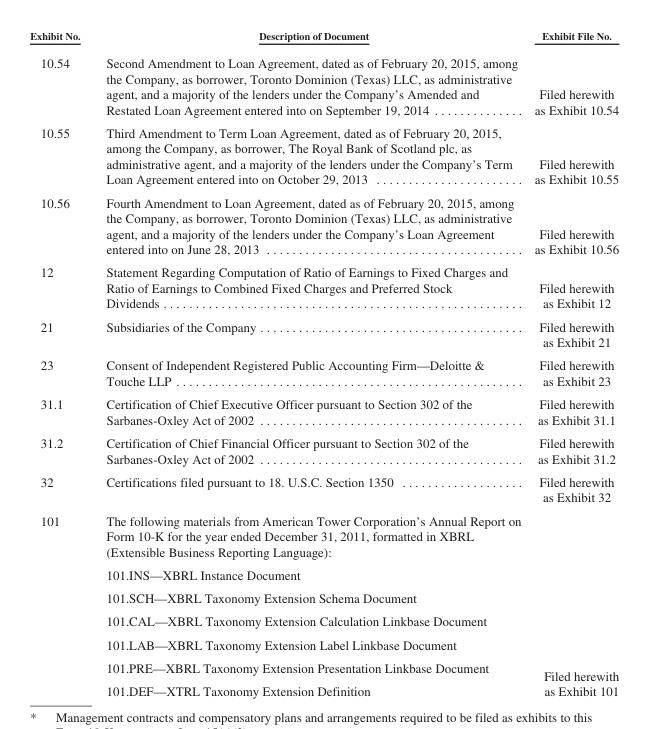table: (29, 29, 618, 697)
table column: (92, 29, 527, 697), (527, 29, 618, 697), (29, 29, 92, 697)
table column header: (29, 29, 618, 48)
table row: (29, 508, 618, 697), (29, 48, 618, 120), (29, 120, 618, 190), (29, 190, 618, 260), (29, 260, 618, 314), (29, 314, 618, 353), (29, 353, 618, 392), (29, 430, 618, 469), (29, 469, 618, 508), (29, 392, 618, 430), (29, 29, 618, 48)
